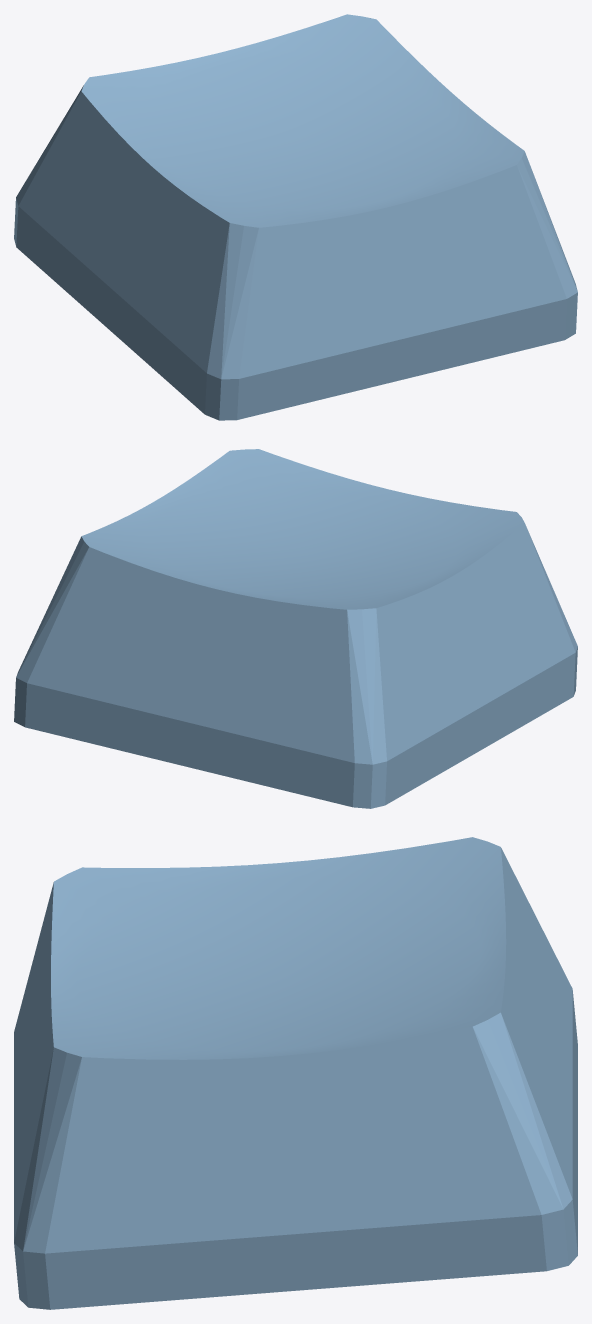
File: original-11.obj
The picture shows the model from 3 angles, top to bottom: view 1: azimuth 30°, elevation 25°; view 2: azimuth 150°, elevation 25°; view 3: azimuth 270°, elevation 25°; orthographic projection. The views are drawn at different scales.
Visible parts, largest first — view 1: Group12/mesh28/mesh28-geometry#mesh28-geometry; view 2: Group12/mesh28/mesh28-geometry#mesh28-geometry; view 3: Group12/mesh28/mesh28-geometry#mesh28-geometry.
Part boxes in pixels (x1,y1,x2,y2): Group12/mesh28/mesh28-geometry#mesh28-geometry: (14, 14, 577, 420); Group12/mesh28/mesh28-geometry#mesh28-geometry: (14, 449, 577, 808); Group12/mesh28/mesh28-geometry#mesh28-geometry: (14, 837, 577, 1309).
Size of the model in its own units: 0.0793 by 0.0412 by 0.0798.
